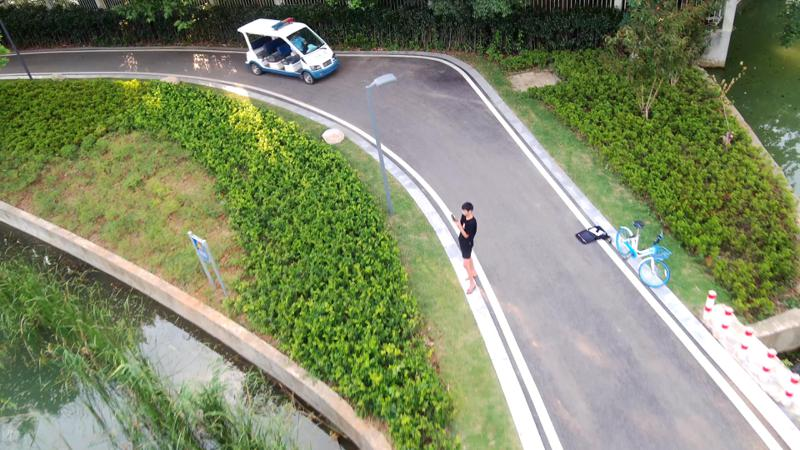passerby: (451, 201, 479, 296)
